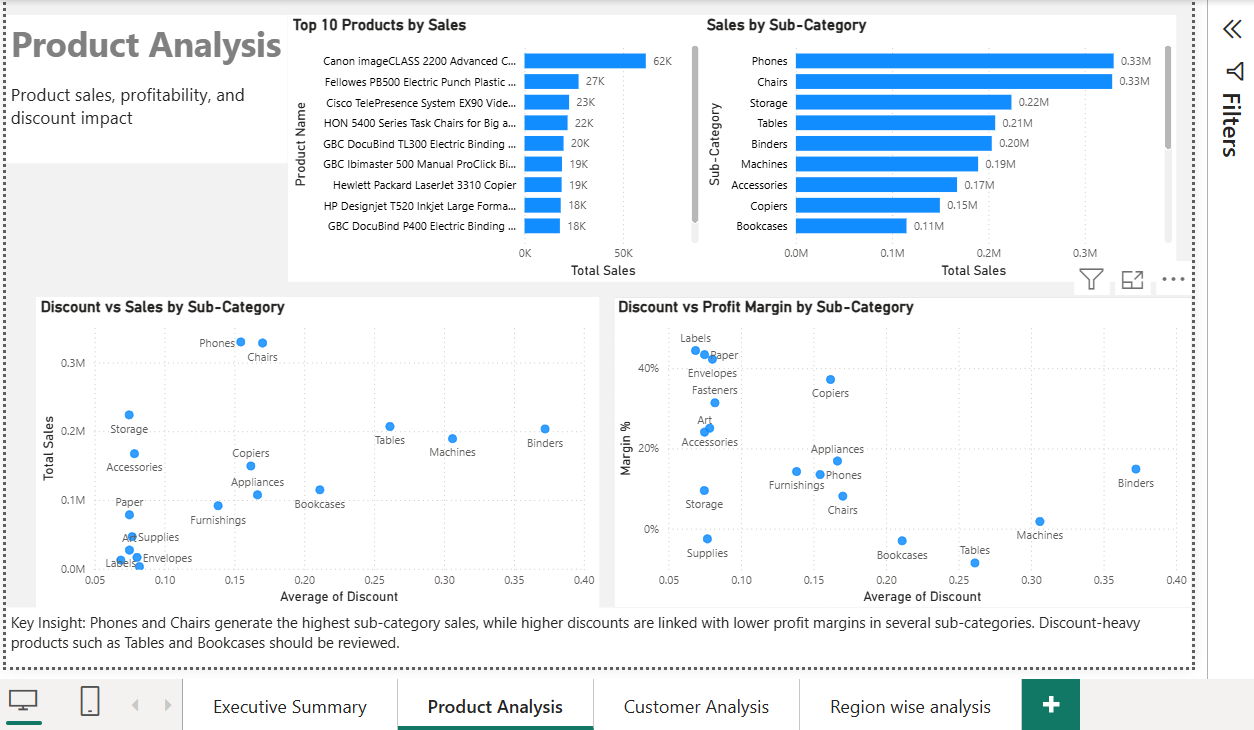

The page's visual inventory and layout, read from the dashboard file:
{"tool":"powerbi","page":{"name":"Product Analysis","canvas":[1280,720],"ordinal":1},"visuals":[{"type":"barChart","title":"Top 10 Products by Sales","fields":{"Category":["DimProducts.Product Name"],"Y":["_Measures.Total Sales"]},"box":[304,16,448,288],"z":0},{"type":"barChart","title":"Sales by Sub-Category","fields":{"Y":["_Measures.Total Sales"],"Category":["DimProducts.Sub-Category"]},"box":[752,16,512,288],"z":1000},{"type":"scatterChart","title":"Discount vs Profit Margin by Sub-Category","fields":{"X":["Avg(FactSales.Discount)"],"Y":["_Measures.Profit Margin %"],"Category":["DimProducts.Sub-Category"]},"box":[656,320,624,336],"z":2000},{"type":"scatterChart","title":"Discount vs Sales by Sub-Category","fields":{"X":["Avg(FactSales.Discount)"],"Category":["DimProducts.Sub-Category"],"Y":["_Measures.Total Sales"]},"box":[32,320,608,336],"z":3000},{"type":"textbox","box":[0,16,304,160],"z":4000},{"type":"textbox","box":[0,656,1280,64],"z":5000}]}

Visuals, with their boxes on the page's 1280x720 design canvas (x1, y1, x2, y2). These are canvas units, not pixel positions in the 1254x730 screenshot, which may show the page scaled, cropped or inside an application window:
"Top 10 Products by Sales" barChart: <region>304, 16, 752, 304</region>
"Sales by Sub-Category" barChart: <region>752, 16, 1264, 304</region>
"Discount vs Profit Margin by Sub-Category" scatterChart: <region>656, 320, 1280, 656</region>
"Discount vs Sales by Sub-Category" scatterChart: <region>32, 320, 640, 656</region>
textbox: <region>0, 16, 304, 176</region>
textbox: <region>0, 656, 1280, 720</region>
